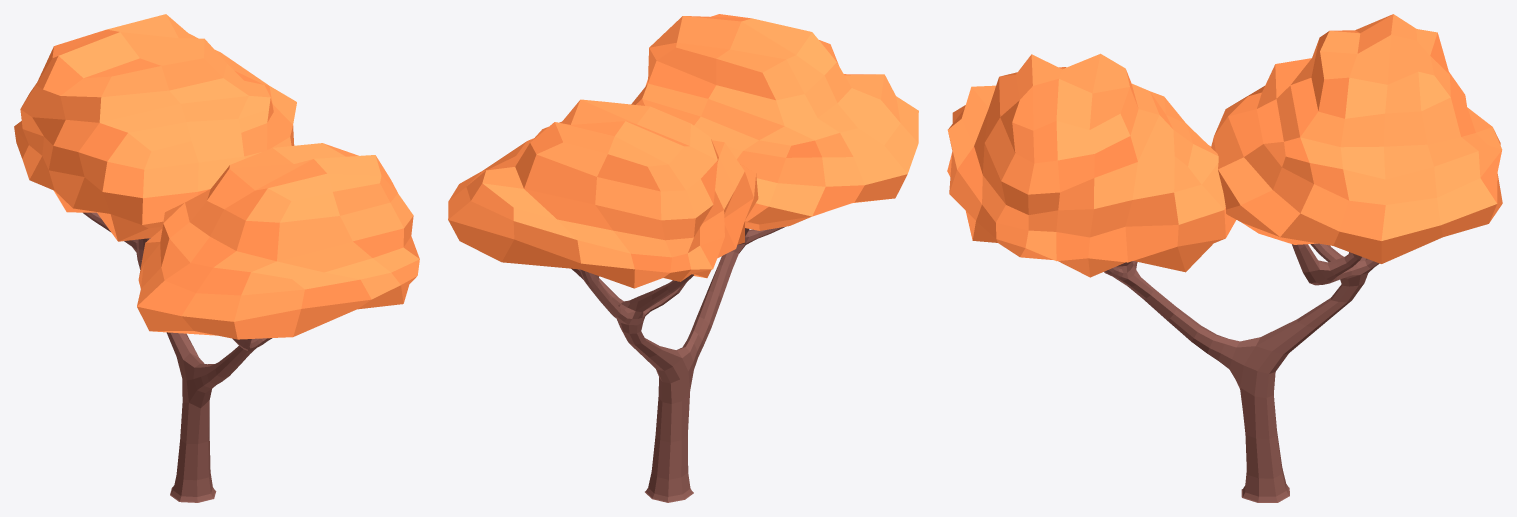
File: CommonTree_Autumn_1.glb
The picture shows the model from 3 angles, left to right: view 1: azimuth 30°, elevation 25°; view 2: azimuth 150°, elevation 25°; view 3: azimuth 270°, elevation 25°; orthographic projection. The views are drawn at different scales.
Parts seen in each view (by area): view 1: CommonTree_Autumn_1; view 2: CommonTree_Autumn_1; view 3: CommonTree_Autumn_1.
Boxes of the visible parts, x1,y1,x2,y2 form: CommonTree_Autumn_1: (14,14,419,502); CommonTree_Autumn_1: (448,14,918,502); CommonTree_Autumn_1: (947,14,1502,502).
Size of the model in its own units: 189 by 248 by 277.
